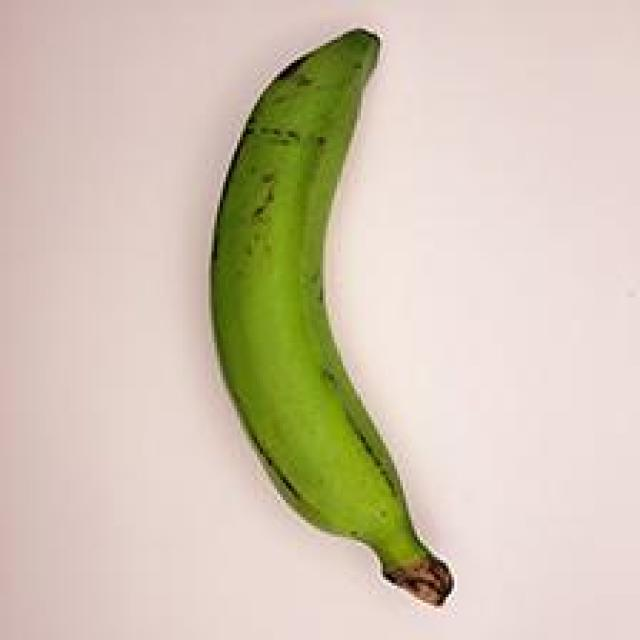Raw: (168, 21, 510, 625)
